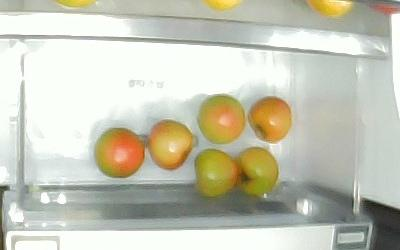tomato: (196, 93, 245, 145), (95, 128, 144, 178), (149, 119, 194, 171), (247, 96, 292, 144), (235, 147, 279, 195), (194, 148, 237, 196)
